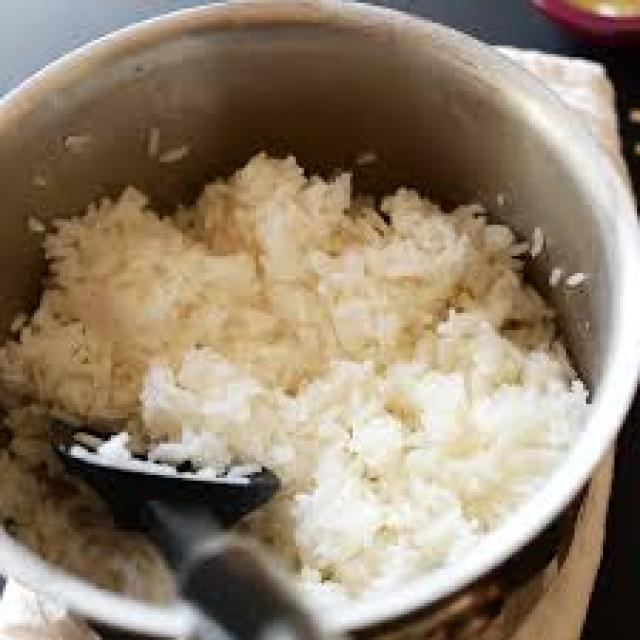White Rice: (0, 125, 597, 591)
